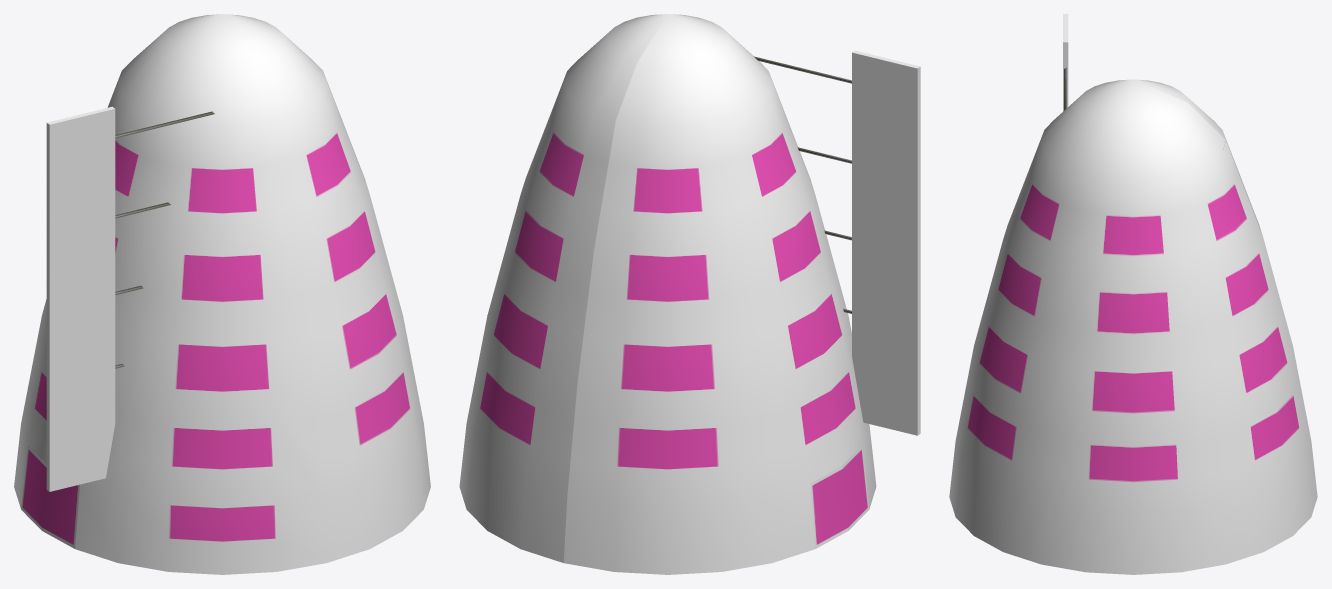
File: Dome Building LP.FBX
3 views of the same model, side by side, from view 1: azimuth 30°, elevation 25°; view 2: azimuth 150°, elevation 25°; view 3: azimuth 270°, elevation 25° (orthographic). The views are drawn at different scales.
Parts seen in each view (by area): view 1: Dome001, Box009; view 2: Dome001, Box009; view 3: Dome001.
Boxes of the visible parts, x1=… form: Dome001: x1=14, y1=14, x2=430, y2=574; Box009: x1=46, y1=106, x2=115, y2=491; Dome001: x1=459, y1=14, x2=876, y2=574; Box009: x1=852, y1=50, x2=920, y2=435; Dome001: x1=949, y1=79, x2=1317, y2=574.
Size of the model in its own units: 128 by 147 by 117.
Materials: 3 (2 with a texture image).
